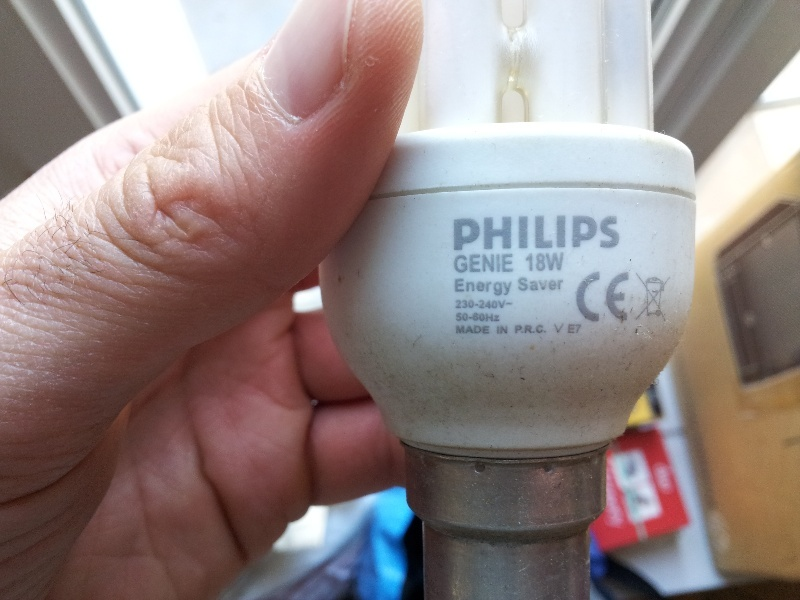text: (577, 271, 592, 323), (593, 271, 608, 323), (609, 271, 624, 323), (465, 215, 480, 251), (481, 215, 496, 251), (497, 215, 512, 251), (513, 215, 528, 251), (529, 215, 544, 251), (545, 215, 560, 251), (561, 215, 576, 251), (577, 215, 592, 251), (593, 215, 608, 251), (609, 215, 620, 251), (454, 215, 464, 251), (529, 252, 544, 272), (545, 252, 560, 272), (465, 277, 480, 297), (481, 277, 496, 297), (497, 277, 512, 297), (465, 254, 480, 273), (481, 254, 496, 273), (497, 254, 512, 273), (625, 271, 630, 323), (529, 277, 544, 291), (545, 277, 560, 291), (454, 254, 464, 273), (455, 277, 464, 297), (465, 299, 480, 310), (481, 299, 496, 310), (465, 313, 480, 323), (481, 313, 496, 323), (465, 325, 480, 335), (518, 277, 528, 291), (497, 326, 512, 335), (529, 325, 544, 334), (514, 325, 528, 334), (455, 299, 464, 310), (497, 299, 506, 310), (481, 325, 490, 335), (568, 323, 576, 334), (456, 313, 464, 323), (456, 325, 464, 335), (553, 323, 560, 334), (561, 252, 564, 272), (577, 323, 582, 334), (561, 323, 565, 334), (561, 277, 564, 291), (526, 252, 528, 272), (497, 313, 500, 323), (513, 254, 514, 273), (545, 325, 547, 334)
